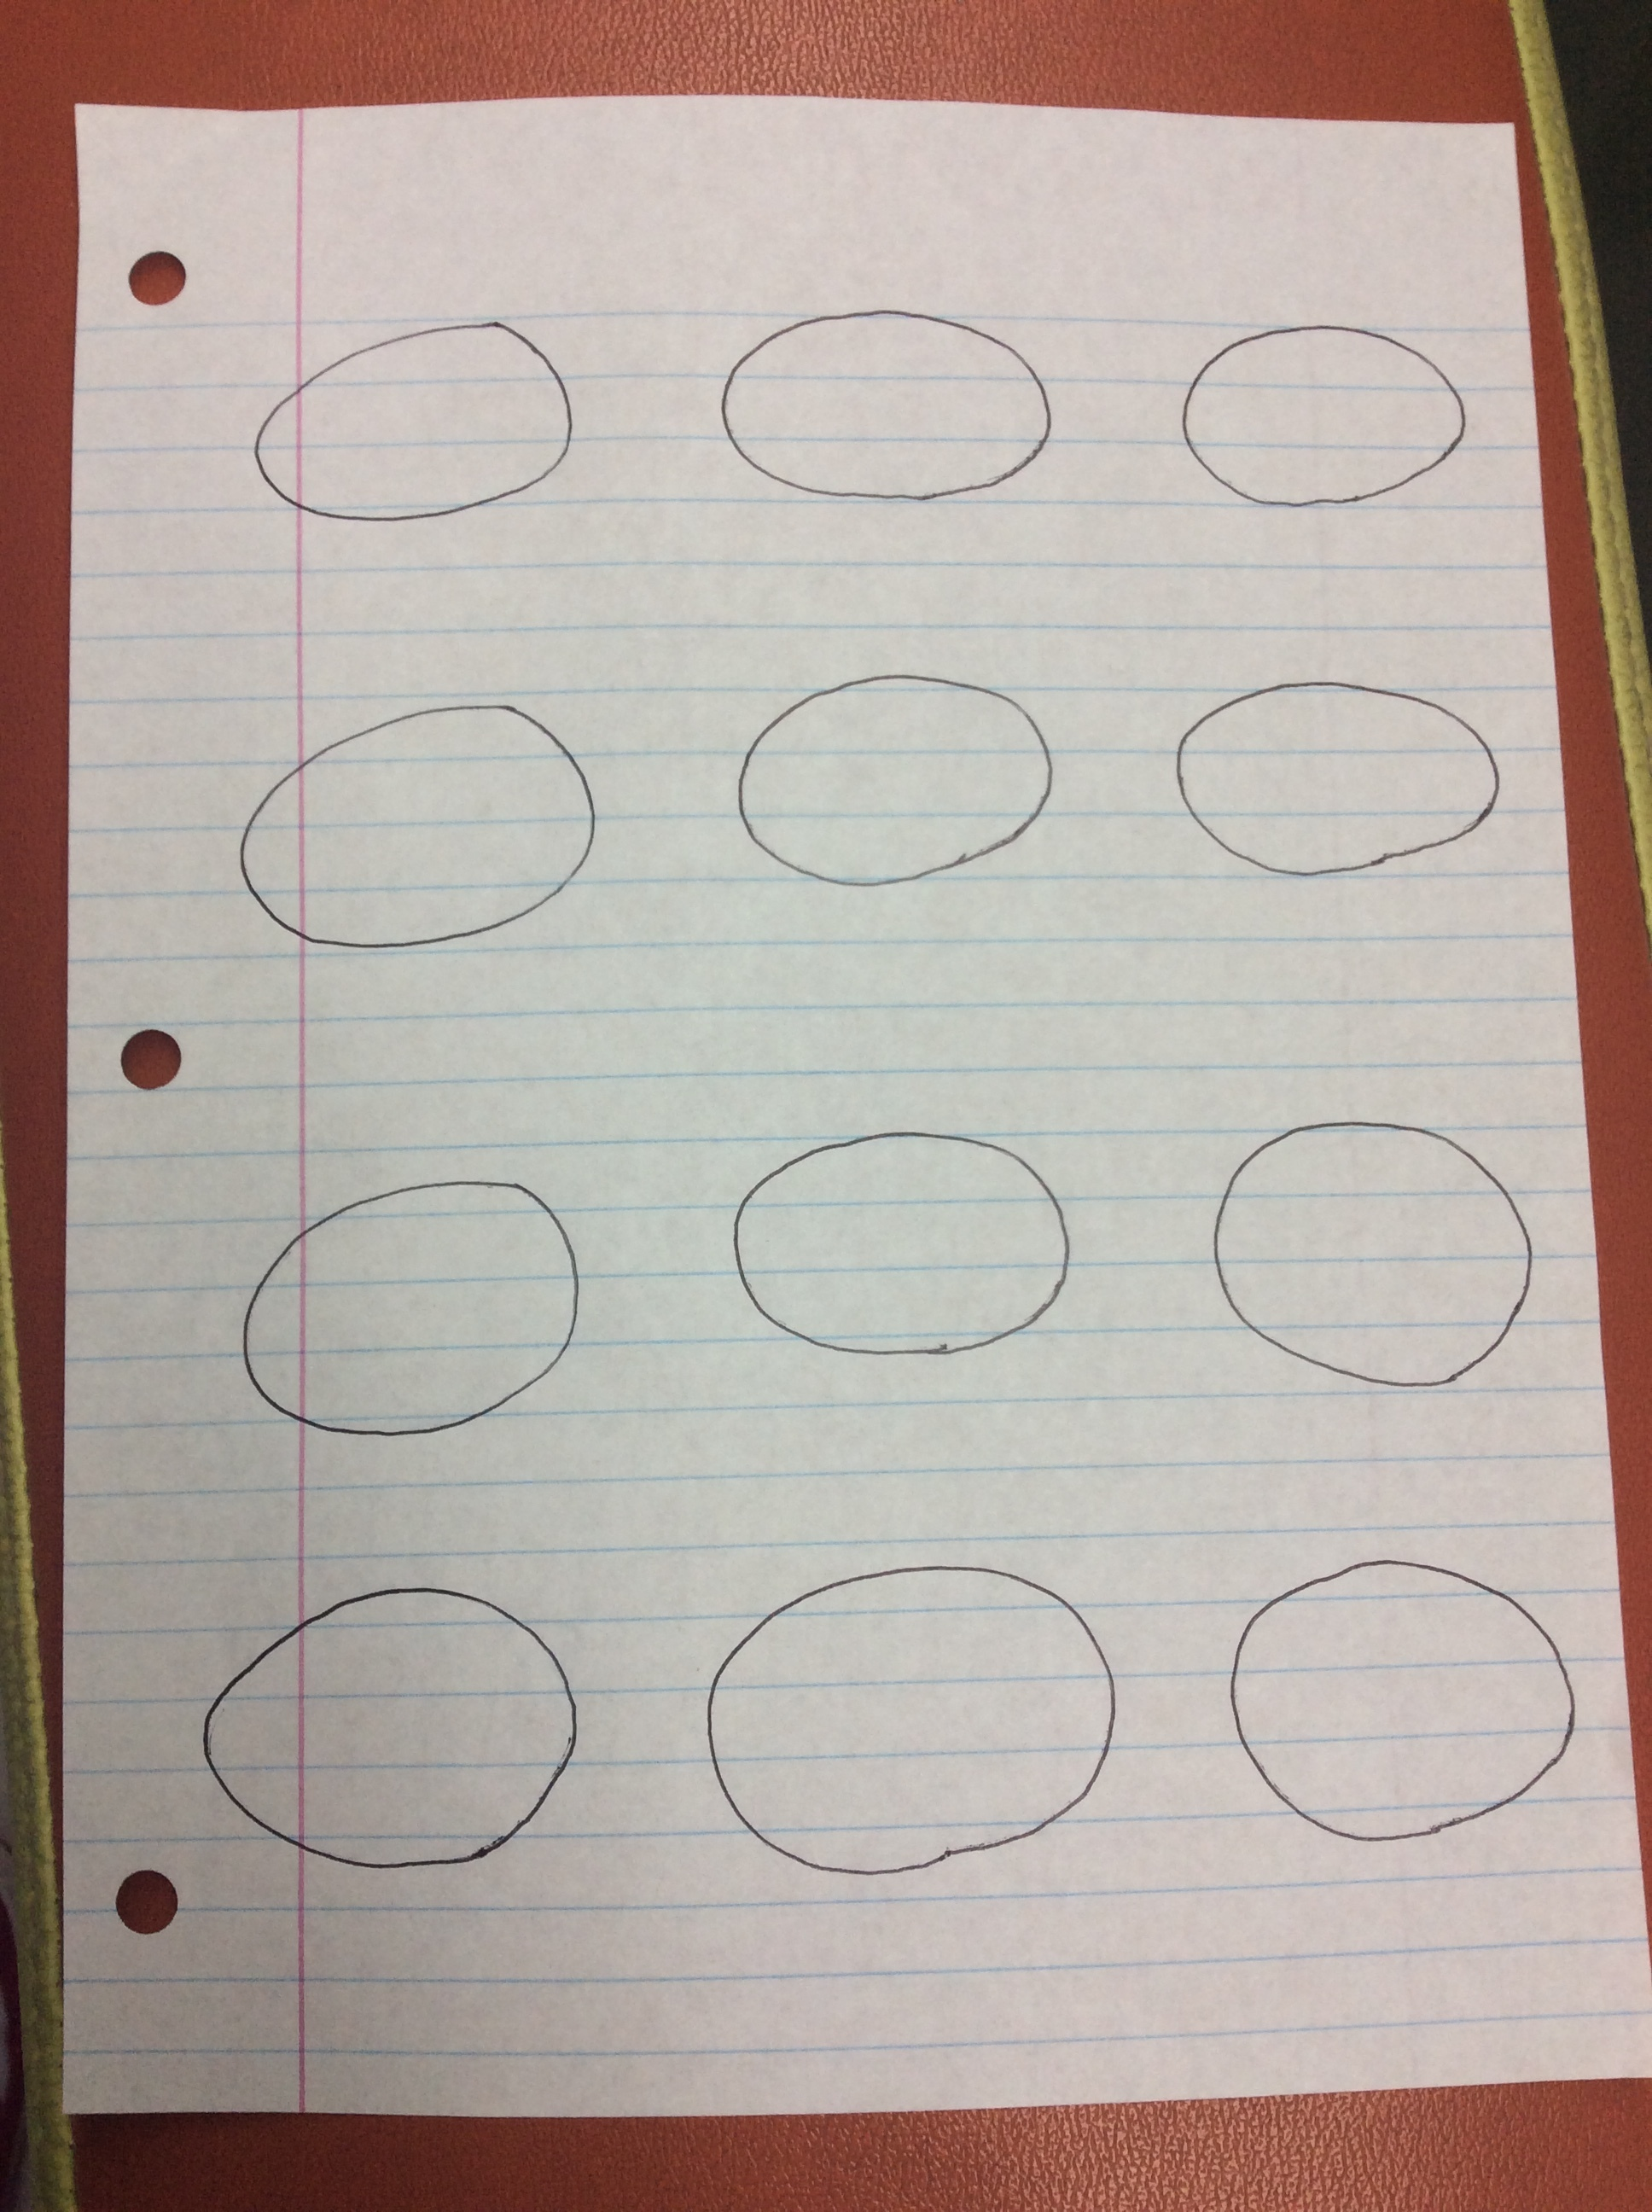start_end: (665, 1535, 1131, 1915), (196, 1546, 602, 1926), (1189, 1528, 1590, 1905), (1177, 1103, 1562, 1414), (217, 1157, 599, 1461), (217, 684, 616, 973), (701, 1119, 1100, 1390), (691, 279, 1067, 533), (705, 652, 1067, 911), (227, 293, 581, 543), (1135, 666, 1520, 895), (1149, 314, 1491, 529)
